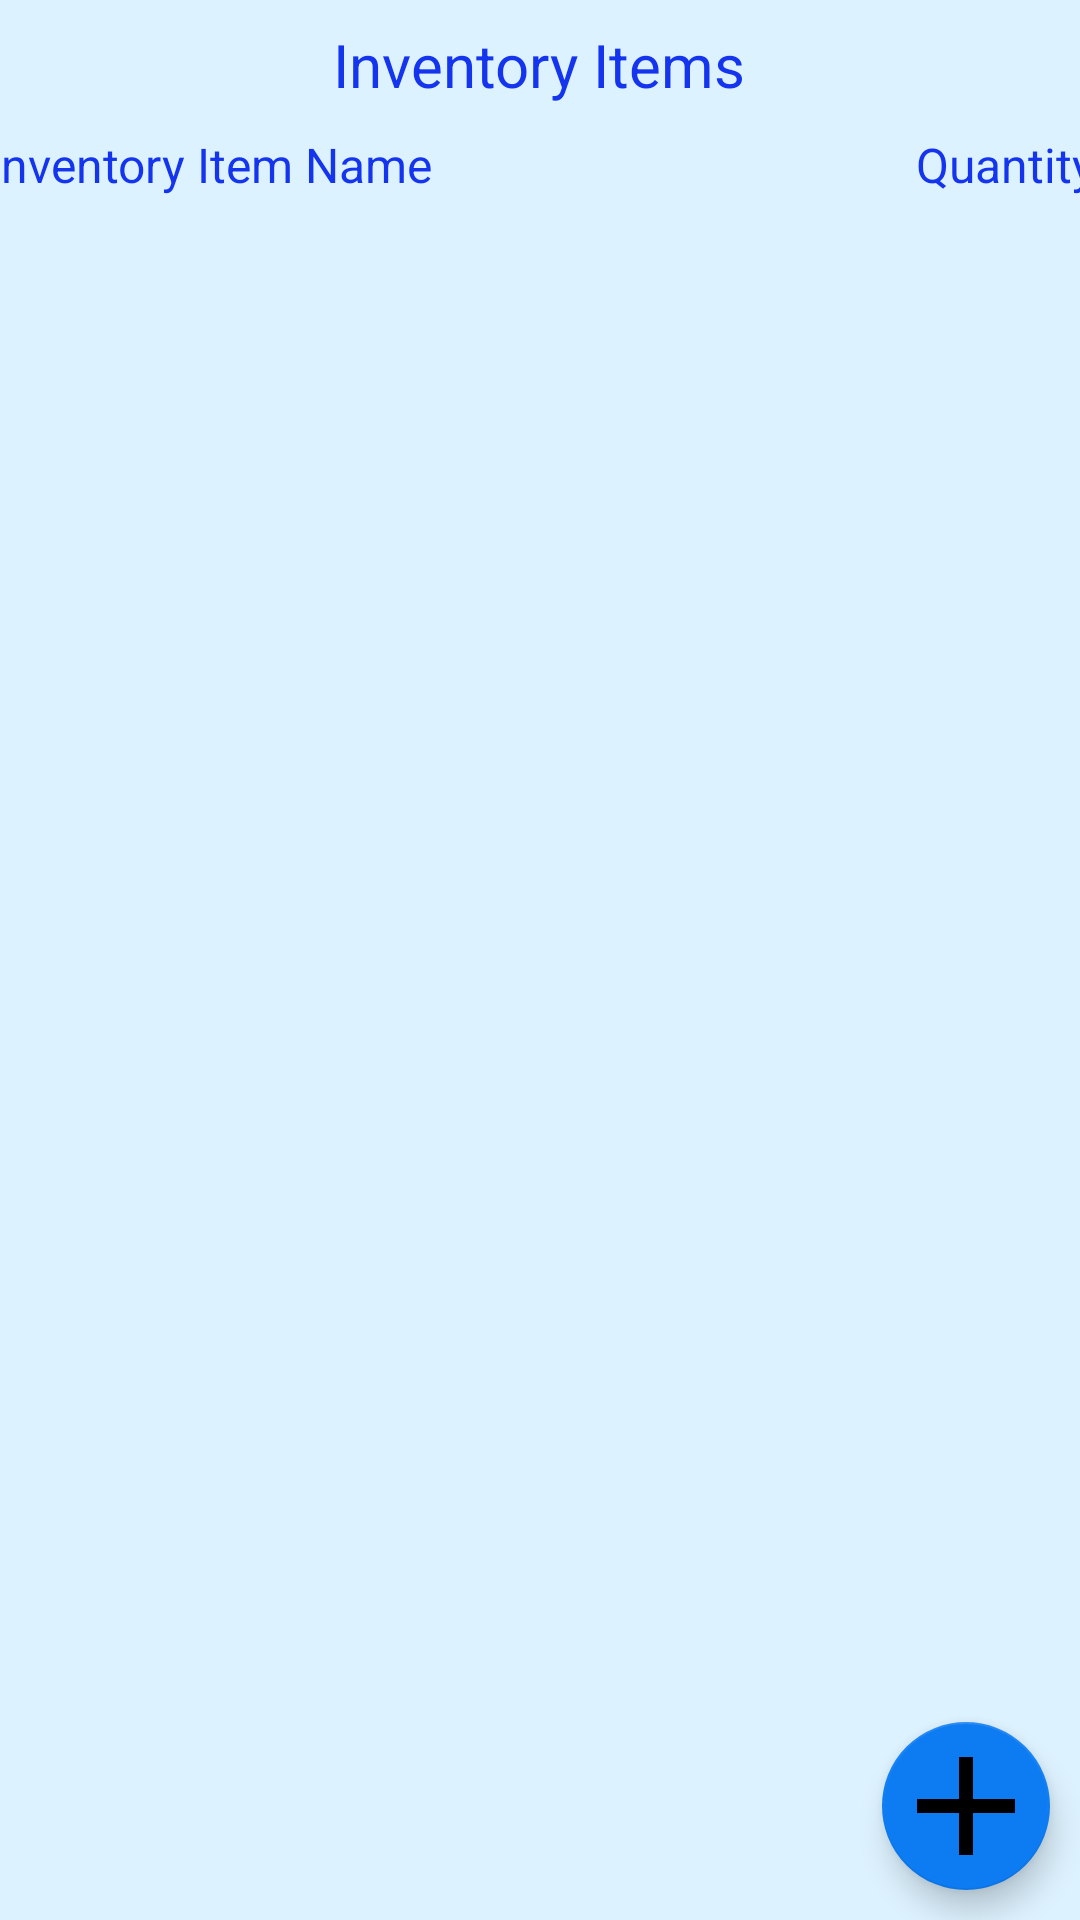

Where icons sit on this 1080 × 1920 app screen, as (x1, y1, x2, y2):
fab add: (882, 1722, 1050, 1890)
